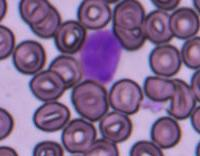L: (80, 28, 124, 84)
